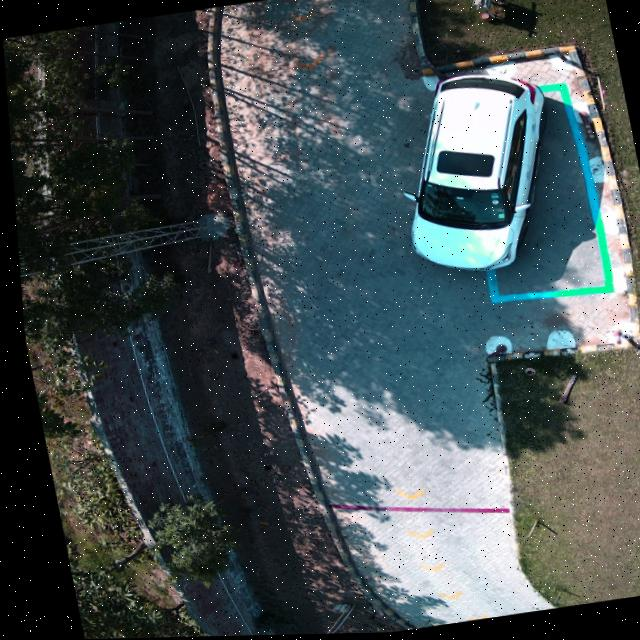car: (405, 74, 545, 274)
